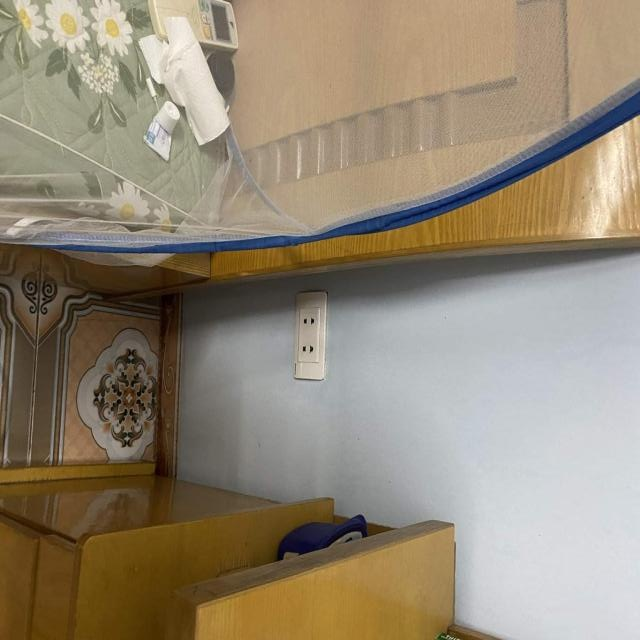outlet: (294, 290, 328, 380)
